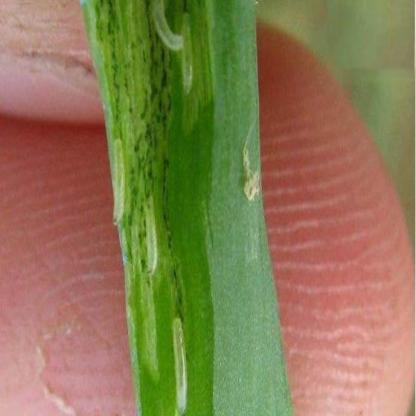whorl-maggot: (170, 313, 190, 416), (147, 0, 184, 55), (141, 190, 159, 282), (177, 7, 195, 98), (110, 134, 126, 232)
